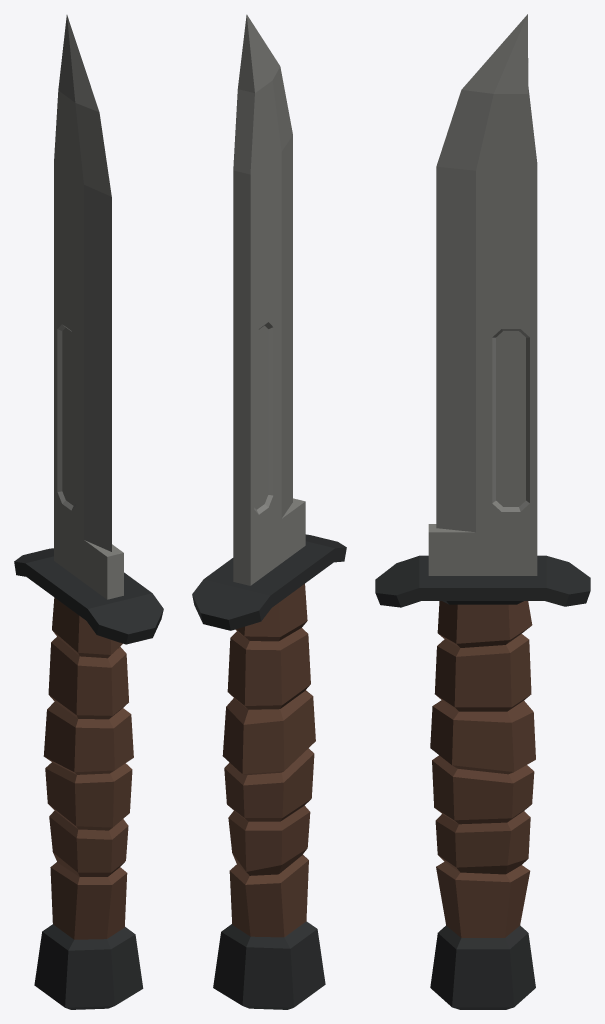
The model's file is Knife_01.fbx.
3 views of the same model, side by side, from view 1: azimuth 30°, elevation 25°; view 2: azimuth 150°, elevation 25°; view 3: azimuth 270°, elevation 25° (orthographic). The views are drawn at different scales.
Parts seen in each view (by area): view 1: Knife_01; view 2: Knife_01; view 3: Knife_01.
Boxes of the visible parts, x1=… form: Knife_01: x1=14, y1=15, x2=163, y2=1009; Knife_01: x1=192, y1=14, x2=346, y2=1009; Knife_01: x1=375, y1=14, x2=590, y2=1009.
Size of the model in its own units: 0.026 by 0.3059 by 0.0608.
